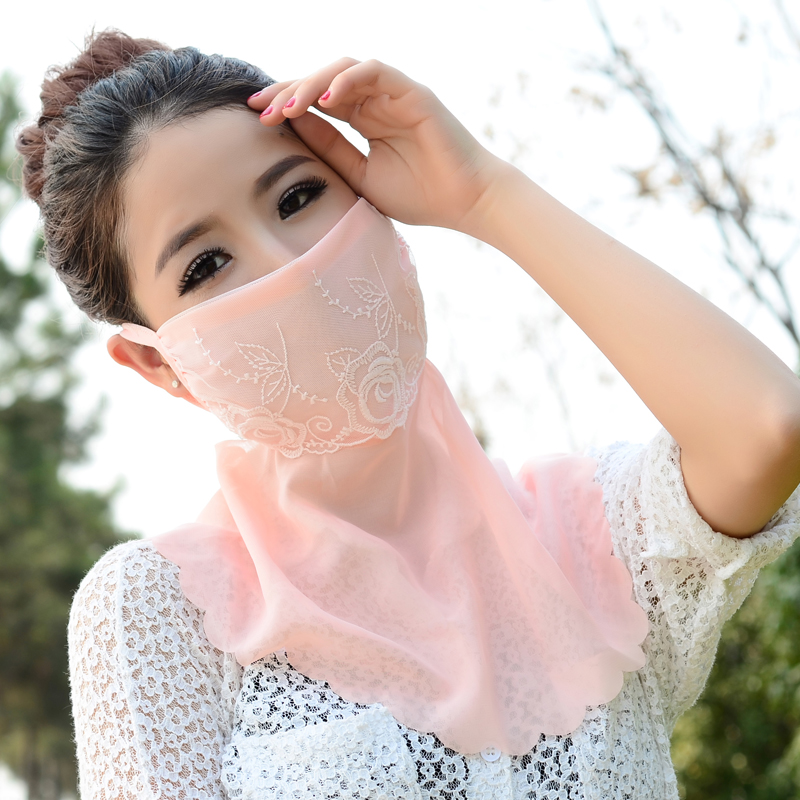face_mask: (152, 103, 429, 453)
